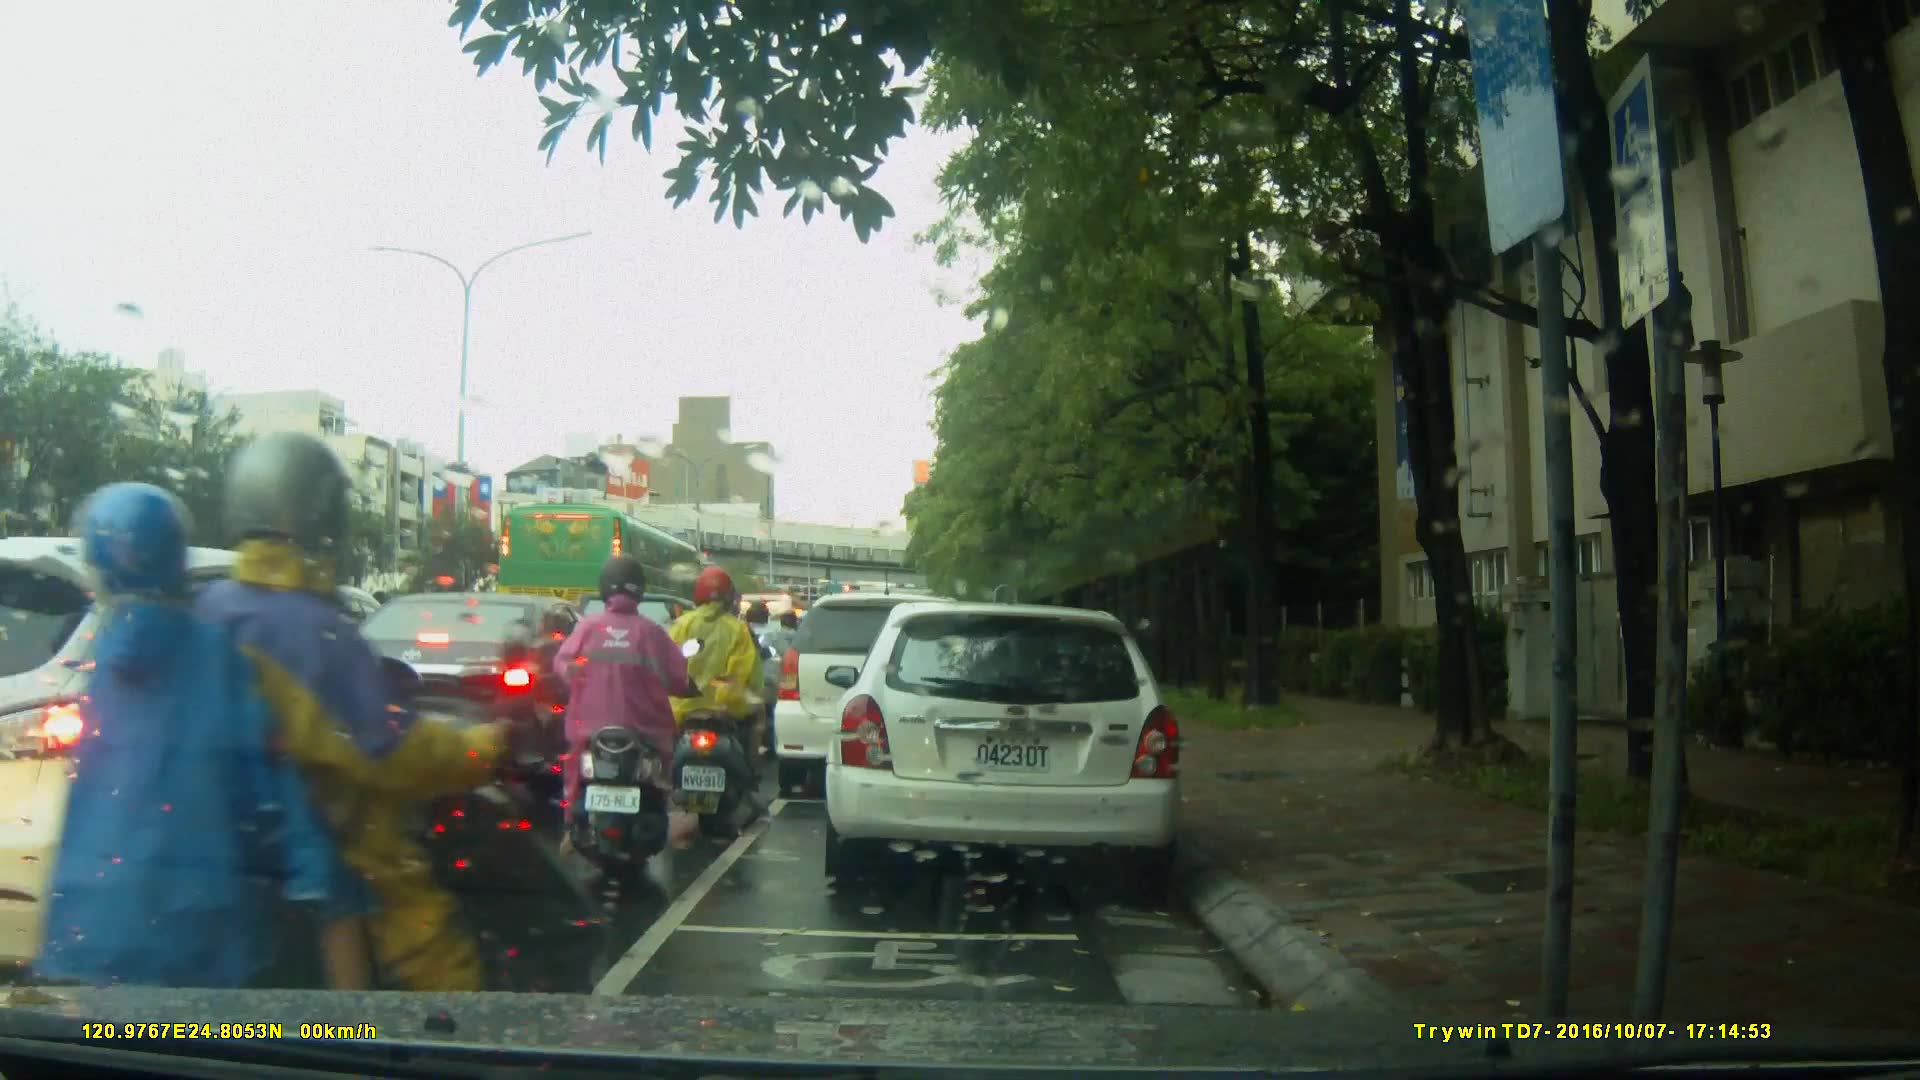rider: (37, 432, 587, 1080), (564, 561, 685, 884), (677, 562, 767, 820), (737, 597, 796, 755), (772, 604, 814, 721)
vehicle: (5, 536, 469, 988), (831, 592, 1196, 897), (316, 589, 629, 776), (770, 590, 999, 804), (497, 503, 712, 636)
